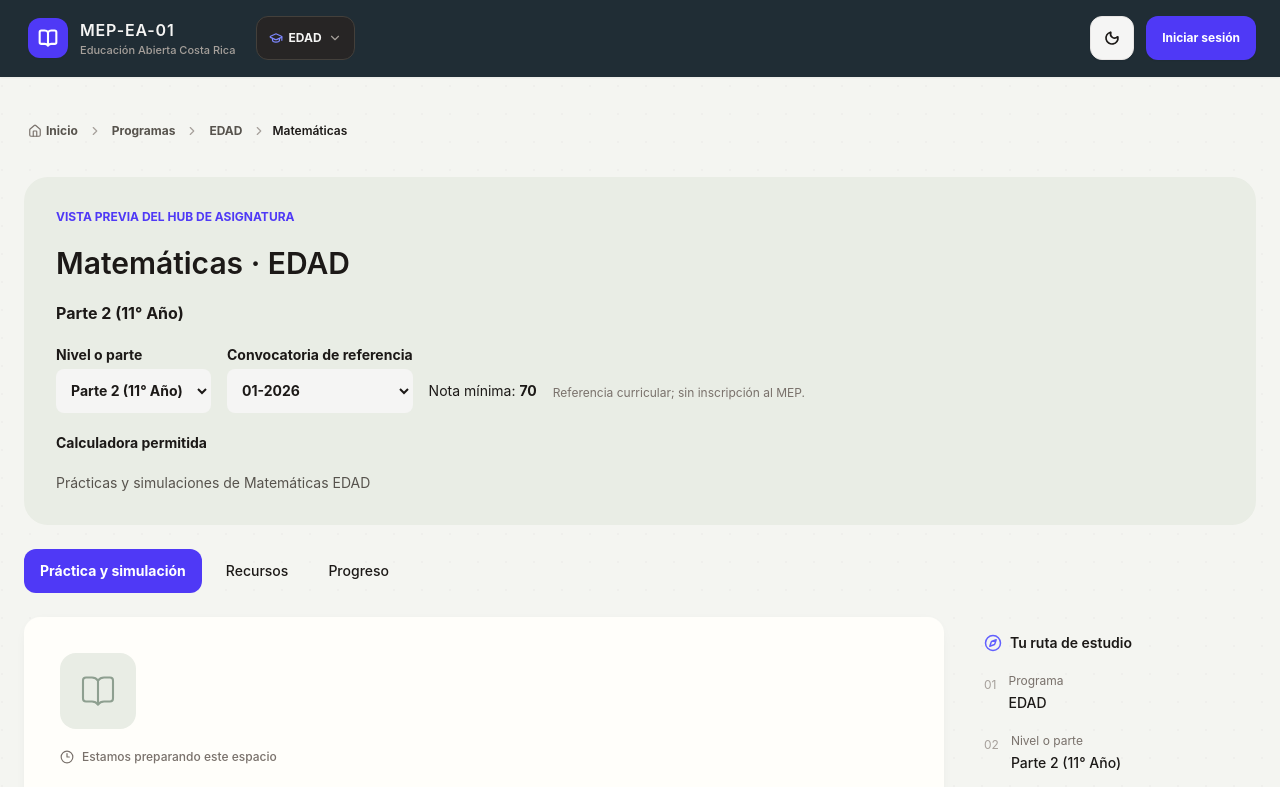
Test: application curriculum flows › restores a direct EDAD route, changes its context, and clears the module when switching to CICO
Expected: the heading "Matemáticas · EDAD" is shown, [56,244,350,280]
Select "Parte 1 (10° Año)" in the dropdown labelled "Nivel o parte" at (134, 390), box [56,368,211,412]
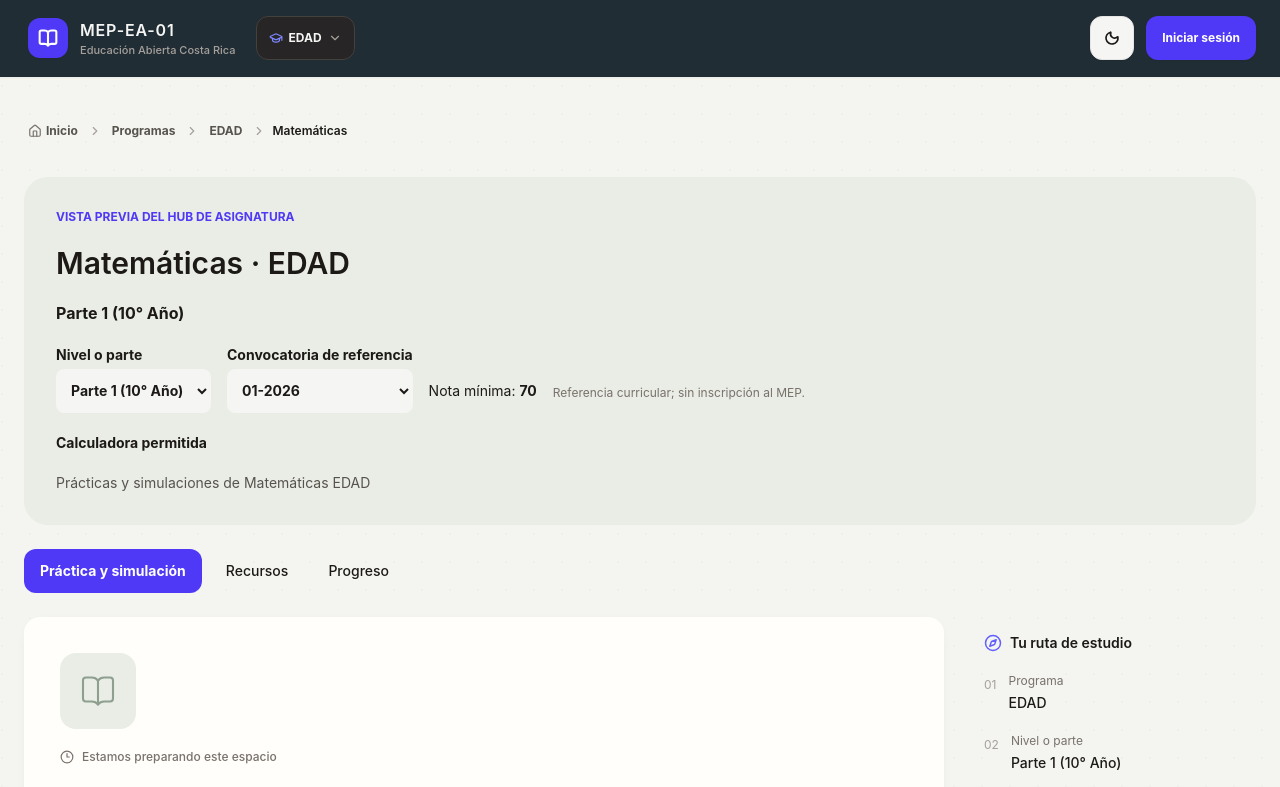
Expected: the heading "Matemáticas · EDAD" is shown, [56,244,350,280]
Click the 1st button titled "Cambiar programa oficial MEP" at (305, 38), box [256,16,355,60]
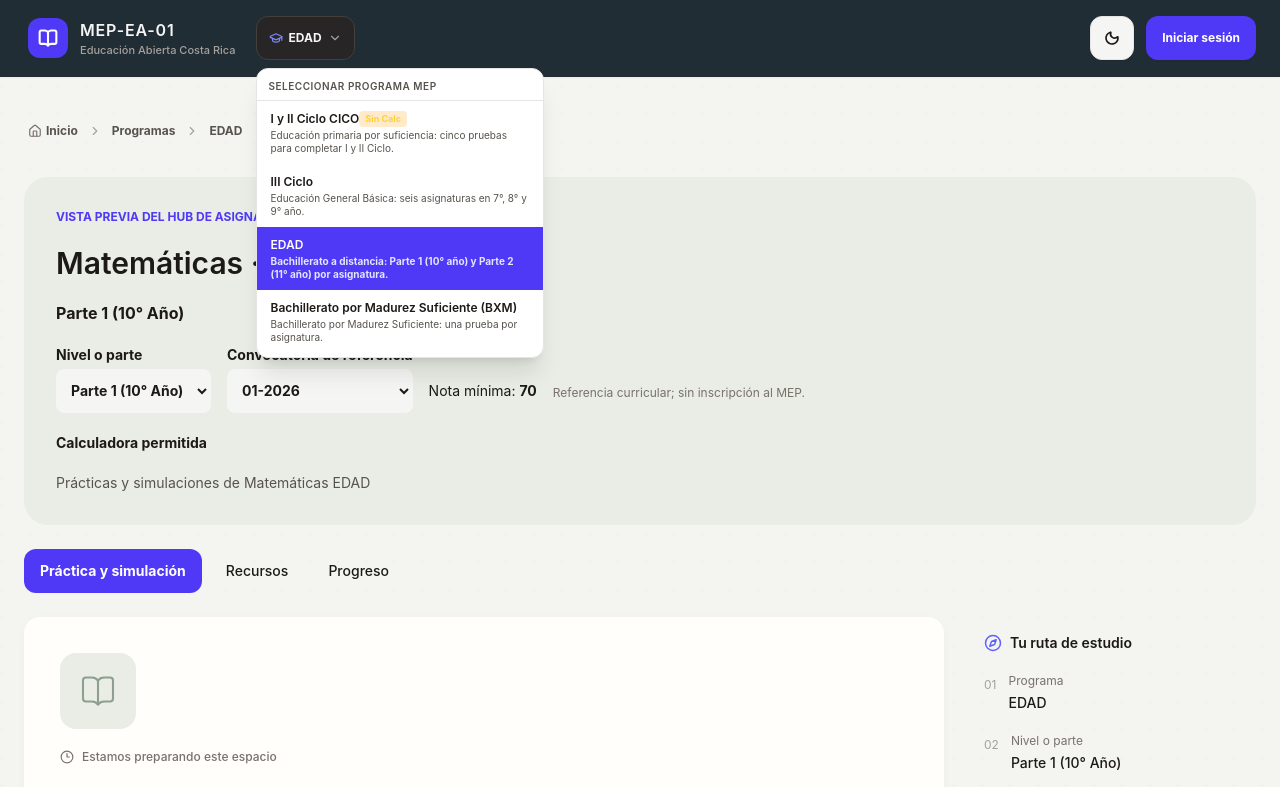
Click the button "I y II Ciclo CICO" at (400, 133), box [256,101,542,164]
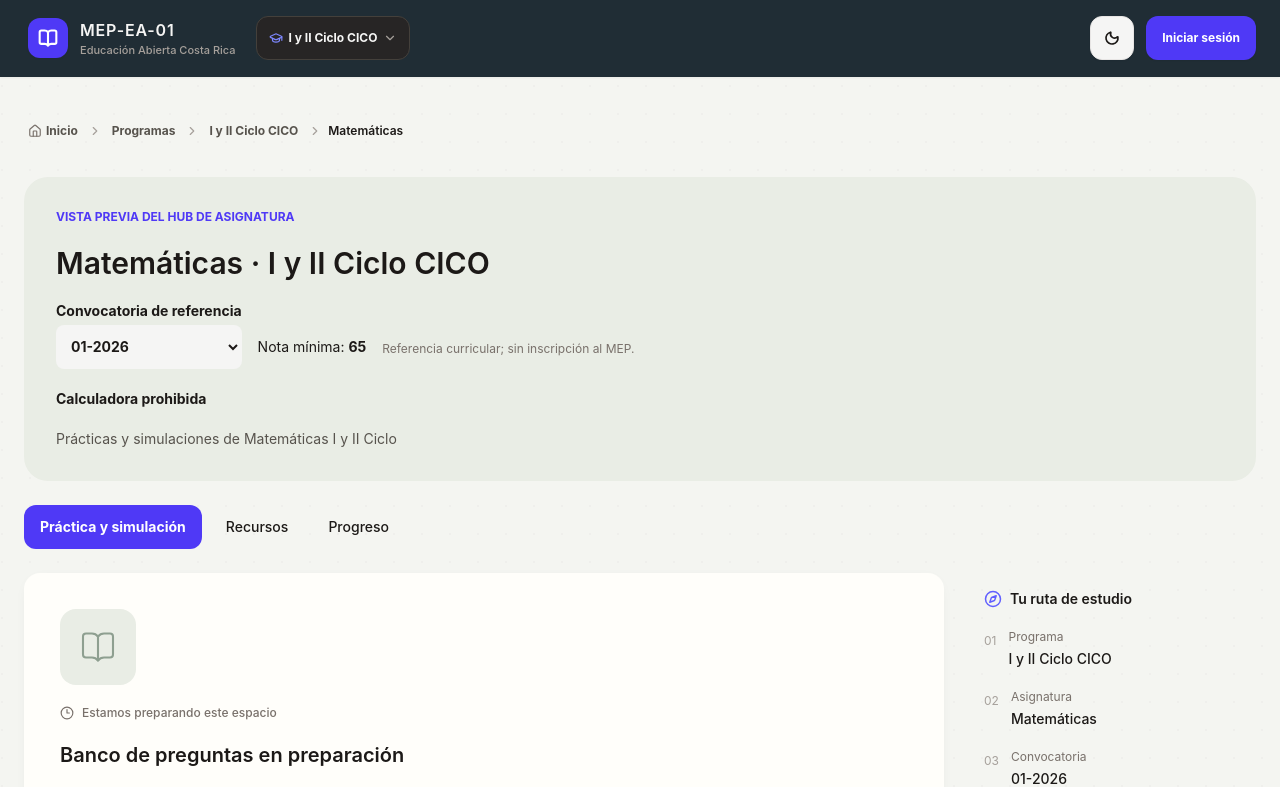
Expected: the heading "Matemáticas · I y II Ciclo CICO" is shown, [56,244,490,280]
Expected: the label labelled "Nivel o parte" is gone
Expected: the dropdown labelled "Convocatoria de referencia" shows "01-2026", [56,324,242,368]
